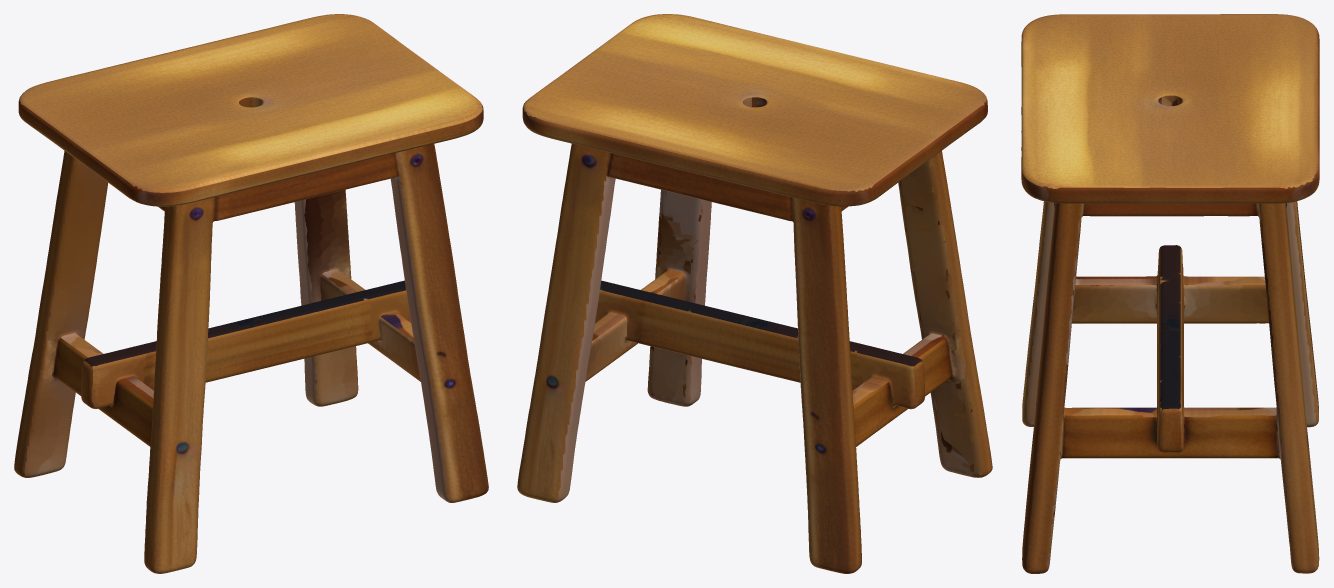
The model's file is stool__stool#3.glb.
3 renders of one model, left to right at view 1: azimuth 30°, elevation 25°; view 2: azimuth 150°, elevation 25°; view 3: azimuth 270°, elevation 25°, orthographic. The views are drawn at different scales.
Visible parts, largest first — view 1: tmpe_yw6lms.ply; view 2: tmpe_yw6lms.ply; view 3: tmpe_yw6lms.ply.
Part boxes in pixels (left/top/right/bottom): tmpe_yw6lms.ply: left=14, top=14, right=488, bottom=573; tmpe_yw6lms.ply: left=517, top=14, right=992, bottom=573; tmpe_yw6lms.ply: left=1021, top=14, right=1319, bottom=573.
Size of the model in its own units: 1.91 by 1.99 by 1.37.
Materials: 1 (1 with a texture image).
